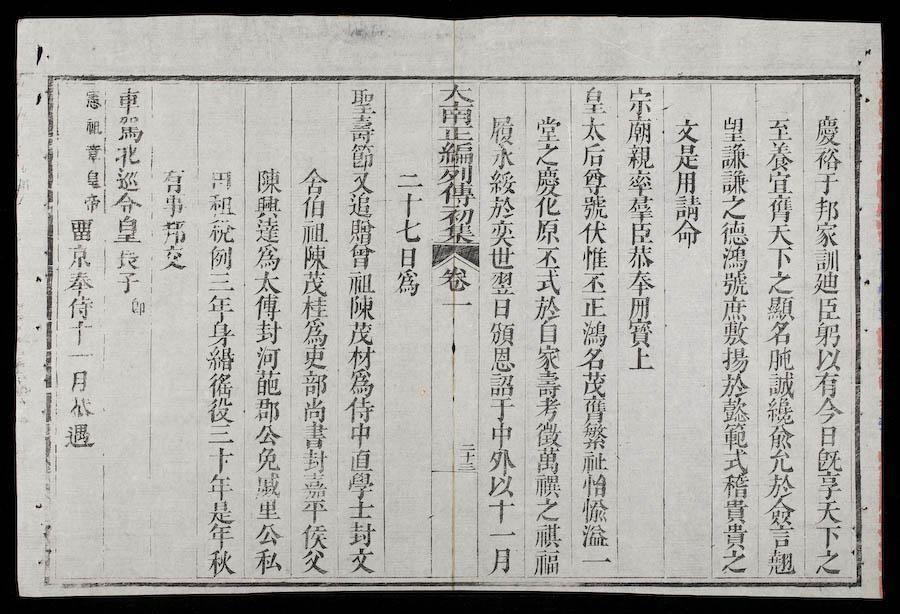c: (436, 264, 473, 293), (811, 113, 843, 145), (623, 85, 656, 116), (763, 140, 796, 171), (250, 546, 285, 575), (111, 214, 143, 245), (202, 548, 237, 576), (436, 102, 476, 126), (764, 548, 798, 576), (62, 421, 96, 449), (437, 182, 476, 206), (298, 165, 329, 195), (671, 219, 703, 248), (764, 194, 796, 223), (435, 142, 475, 165), (763, 498, 797, 525), (533, 166, 563, 196), (487, 544, 517, 574), (487, 113, 516, 144), (345, 546, 377, 574), (345, 116, 377, 144), (719, 422, 752, 449), (578, 523, 611, 550), (764, 397, 797, 424), (717, 143, 750, 170), (763, 473, 797, 499), (578, 319, 609, 347), (533, 420, 564, 448), (252, 369, 283, 397), (671, 143, 702, 171), (671, 116, 702, 144), (346, 86, 377, 114), (345, 519, 377, 546), (671, 195, 703, 222), (623, 117, 655, 144), (299, 522, 331, 549), (530, 549, 562, 576), (344, 471, 376, 498), (813, 471, 845, 498), (204, 346, 237, 372), (718, 372, 751, 398), (764, 372, 797, 398), (343, 396, 376, 422), (812, 498, 845, 524), (717, 170, 751, 195), (253, 166, 283, 194), (392, 269, 422, 297), (533, 114, 563, 142), (625, 319, 655, 347), (114, 114, 144, 142), (532, 370, 563, 397), (486, 220, 517, 247), (299, 244, 330, 271), (578, 115, 609, 142), (205, 397, 236, 424), (532, 268, 563, 295), (205, 320, 236, 347), (205, 294, 236, 321), (252, 244, 283, 271), (579, 423, 610, 450), (299, 472, 330, 499), (719, 346, 751, 372), (811, 371, 843, 397), (578, 497, 610, 523), (486, 169, 518, 195), (718, 220, 750, 246), (719, 270, 751, 296), (623, 144, 655, 170), (205, 218, 237, 244), (531, 523, 563, 549), (719, 472, 751, 498), (764, 295, 796, 321), (764, 424, 796, 450), (811, 321, 843, 347), (718, 397, 751, 422), (437, 82, 476, 103), (437, 223, 476, 244), (159, 245, 188, 273), (579, 396, 609, 423), (345, 369, 375, 396), (579, 167, 609, 194), (347, 144, 377, 171), (812, 549, 843, 575), (205, 473, 236, 499), (252, 472, 283, 498), (532, 447, 563, 473), (252, 446, 283, 472), (299, 422, 330, 448), (299, 371, 330, 397), (531, 295, 562, 321), (579, 245, 610, 271), (579, 194, 610, 220), (251, 294, 282, 320), (252, 218, 283, 244), (252, 396, 283, 422), (625, 196, 656, 222), (811, 221, 842, 247), (812, 295, 843, 321), (812, 397, 844, 422), (811, 146, 843, 171), (64, 270, 96, 295), (578, 220, 610, 245), (251, 270, 283, 295), (719, 321, 751, 346), (764, 346, 796, 371), (533, 218, 562, 245), (159, 218, 188, 245), (720, 523, 750, 549), (626, 347, 656, 373), (65, 320, 95, 346), (487, 346, 517, 372), (764, 320, 794, 346), (346, 295, 376, 321), (487, 320, 517, 346), (346, 218, 376, 244), (300, 319, 330, 345), (205, 372, 235, 398), (346, 244, 376, 270), (206, 244, 236, 270), (206, 446, 236, 472), (487, 446, 517, 472), (486, 498, 517, 523), (299, 549, 330, 574), (764, 270, 795, 295), (764, 170, 795, 195), (65, 294, 96, 319), (345, 270, 376, 295), (299, 271, 330, 296), (486, 195, 517, 220), (625, 244, 656, 269), (252, 320, 283, 345), (625, 270, 656, 295), (624, 170, 655, 195), (719, 246, 750, 271), (811, 196, 842, 221), (719, 296, 750, 321), (765, 449, 796, 474), (205, 523, 236, 548), (205, 193, 237, 217), (205, 500, 237, 524), (438, 206, 476, 226), (115, 86, 143, 113), (159, 166, 187, 193), (487, 270, 516, 296), (394, 218, 423, 244), (533, 344, 562, 370), (395, 191, 424, 217), (65, 243, 94, 269), (720, 498, 750, 523), (579, 473, 609, 498), (486, 473, 516, 498), (487, 372, 517, 397), (719, 195, 749, 220), (299, 397, 329, 422), (299, 345, 329, 370), (345, 193, 375, 218), (532, 498, 562, 523), (206, 166, 236, 191), (811, 271, 842, 295), (298, 220, 329, 244), (299, 498, 330, 522), (577, 346, 608, 370), (813, 524, 844, 548), (765, 524, 796, 548), (764, 223, 796, 246), (111, 191, 143, 214), (719, 449, 751, 472), (67, 216, 95, 242), (487, 421, 515, 447), (346, 321, 375, 346), (579, 371, 608, 396), (253, 345, 282, 370), (579, 142, 608, 167), (253, 521, 283, 545), (811, 170, 841, 194), (66, 394, 96, 418), (487, 144, 517, 168), (345, 346, 375, 370), (532, 474, 562, 498), (626, 221, 656, 245), (579, 271, 609, 295), (299, 448, 329, 472), (719, 550, 749, 574), (812, 347, 842, 371), (814, 447, 844, 471), (435, 166, 475, 184), (435, 125, 475, 143), (299, 296, 330, 319), (811, 248, 842, 271), (765, 246, 796, 269), (579, 450, 610, 473), (486, 397, 517, 420), (345, 498, 377, 520), (346, 422, 374, 447), (113, 143, 142, 167), (113, 167, 142, 191), (299, 195, 328, 219), (671, 171, 700, 195), (253, 194, 282, 218), (532, 397, 562, 420), (532, 245, 562, 268), (579, 295, 609, 318), (253, 498, 283, 521), (438, 296, 474, 315), (205, 271, 236, 293), (346, 447, 374, 471), (160, 193, 188, 217), (626, 295, 654, 319), (113, 248, 142, 271), (533, 143, 562, 166), (487, 247, 516, 270), (253, 423, 282, 446), (533, 196, 563, 218), (205, 424, 236, 445), (534, 321, 561, 345), (114, 271, 142, 294), (347, 171, 375, 194), (67, 367, 92, 392), (488, 296, 515, 319), (814, 424, 841, 447), (395, 170, 424, 190), (579, 553, 613, 570), (396, 245, 420, 269), (578, 85, 610, 103), (82, 87, 104, 111), (486, 526, 518, 542), (719, 114, 749, 131), (64, 349, 95, 364), (127, 295, 148, 317), (83, 140, 103, 163), (83, 167, 103, 189), (82, 116, 104, 136), (763, 115, 794, 129), (81, 192, 101, 212), (582, 102, 606, 114), (458, 439, 477, 454), (769, 129, 794, 140), (722, 132, 746, 142), (458, 452, 477, 463), (458, 462, 476, 470)
